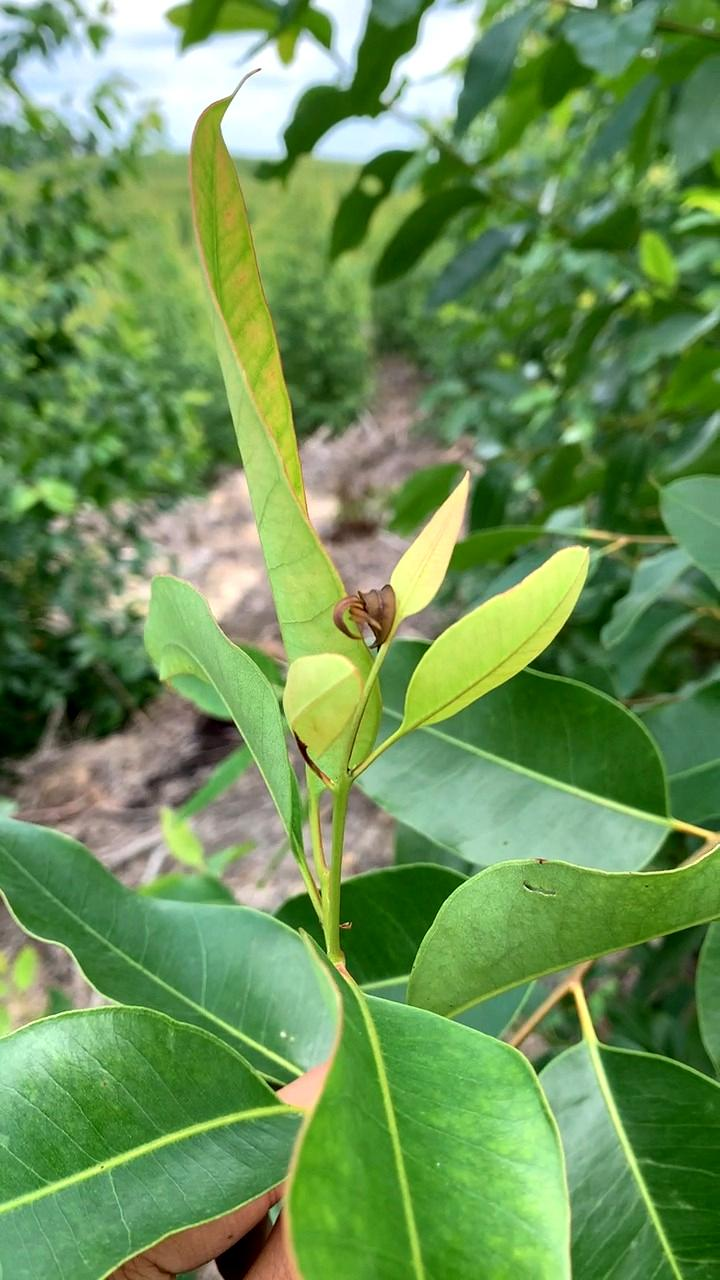Helopeltis-Withered Sprout: (327, 570, 408, 669)
